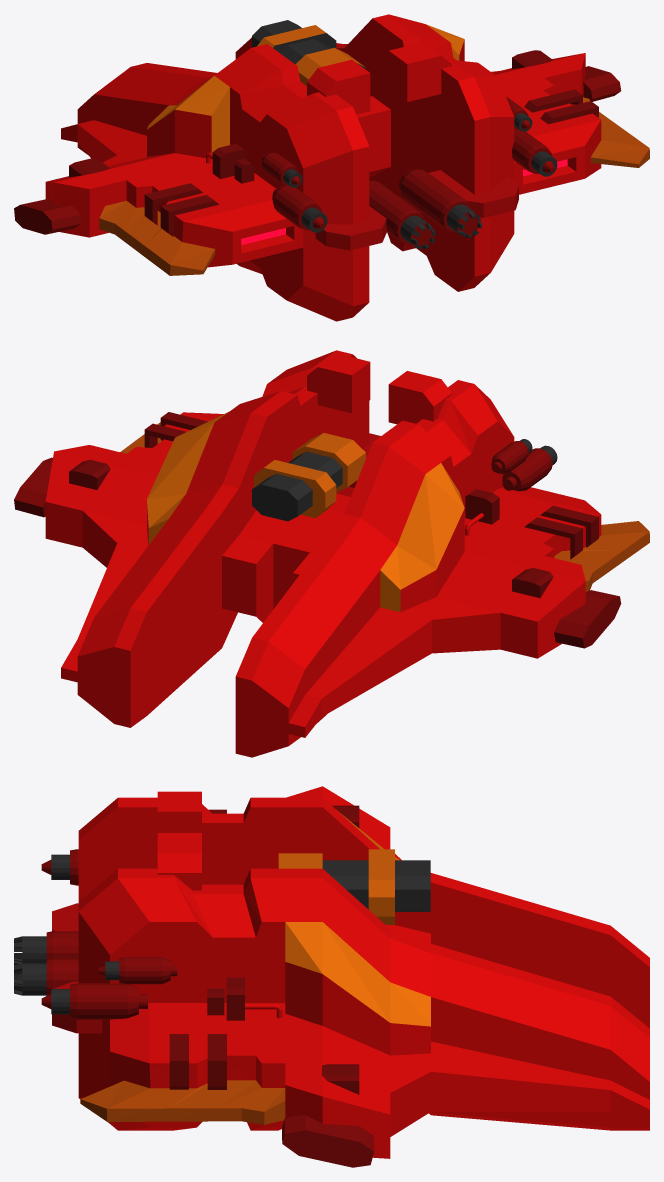
The model's file is basic_boss.glb.
3 views of the same model, one above another, from view 1: azimuth 30°, elevation 25°; view 2: azimuth 150°, elevation 25°; view 3: azimuth 270°, elevation 25° (orthographic). The views are drawn at different scales.
Visible parts, largest first — view 1: BasicBoss; view 2: BasicBoss; view 3: BasicBoss.
Boxes of the visible parts, x1,y1,x2,y2 form: BasicBoss: (14, 14, 649, 321); BasicBoss: (14, 350, 649, 757); BasicBoss: (14, 786, 649, 1167).
Size of the model in its own units: 44.06 by 16.56 by 35.61.
1 material, 1 textured.
